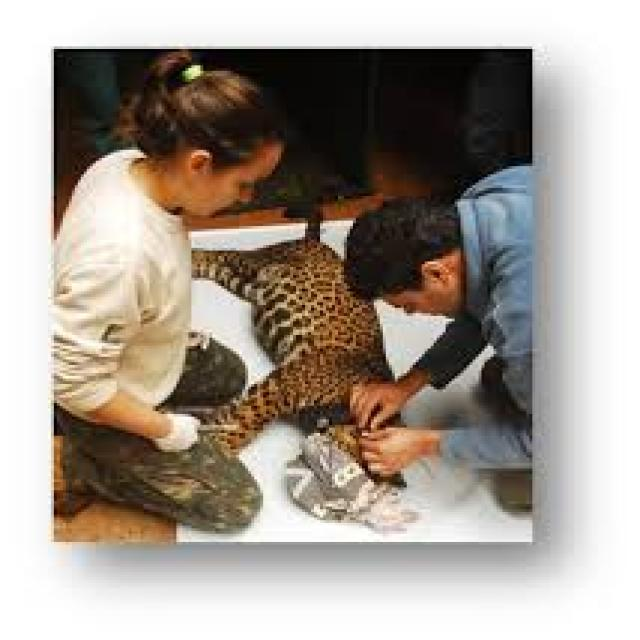Jaguar: (191, 205, 410, 488)
